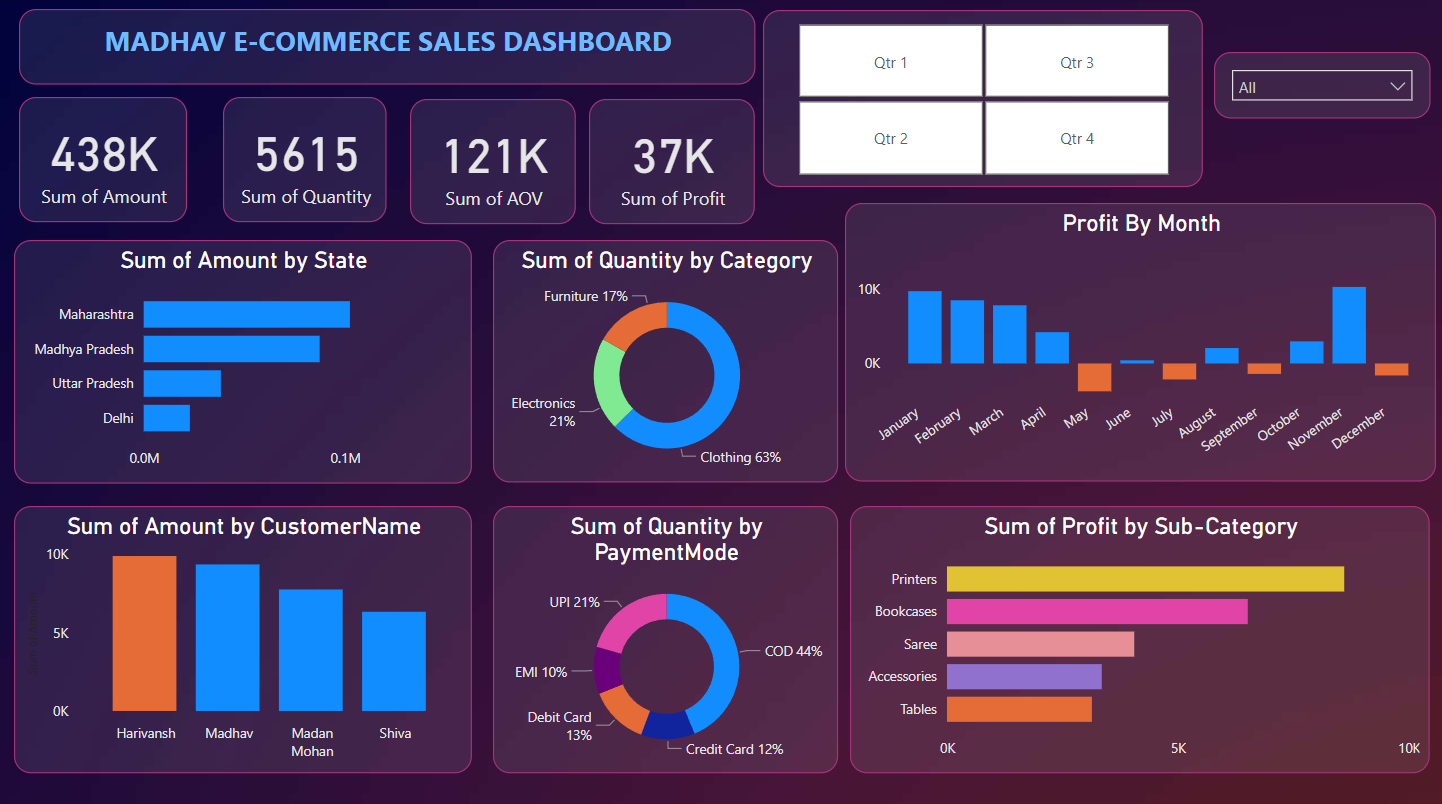

This screenshot's page, from the dashboard's own definition file:
{"tool":"powerbi","page":{"name":"Page 1","canvas":[1280,720],"ordinal":0},"visuals":[{"type":"textbox","box":[16.5,9.7,652.6,67.1],"z":0},{"type":"columnChart","title":"Profit By Month","fields":{"Category":["Orders.Order Date.Variation.Date Hierarchy.Month"],"Y":["Details.Profit"]},"box":[749.3,181.8,524,247.4],"z":1000},{"type":"barChart","fields":{"Category":["Details.Sub-Category"],"Y":["Details.Profit"]},"box":[753.7,450.4,514.3,236.7],"z":2000},{"type":"donutChart","fields":{"Category":["Details.Category"],"Y":["Details.Quantity"]},"box":[436.7,215,306.4,215],"z":3000},{"type":"donutChart","fields":{"Y":["Details.Quantity"],"Series":["Details.PaymentMode"]},"box":[437.1,450.4,305.9,236.7],"z":4000},{"type":"card","fields":{"Values":["Details.Amount"]},"box":[16.8,87.8,149,110.8],"z":5000},{"type":"card","fields":{"Values":["Details.Quantity"]},"box":[197.7,87.8,145.4,110.8],"z":6000},{"type":"card","fields":{"Values":["Details.Profit"]},"box":[522.3,89.6,147.2,110.8],"z":7000},{"type":"card","fields":{"Values":["Details.AOV"]},"box":[363.5,89.6,147.2,110.8],"z":8000},{"type":"barChart","fields":{"Y":["Details.Amount"],"Category":["Orders.State"]},"box":[12.6,215,405.6,215.9],"z":9000},{"type":"columnChart","fields":{"Category":["Orders.CustomerName"],"Y":["Details.Amount"]},"box":[12.4,450.4,406.1,236.7],"z":10000},{"type":"slicer","fields":{"Values":["Orders.Order Date.Variation.Date Hierarchy.Quarter"]},"box":[676.6,10.6,390.1,156.9],"z":11000},{"type":"slicer","fields":{"Values":["Orders.State"]},"box":[1076.5,47.9,191.5,58.5],"z":11001}]}

Visuals, with their boxes in screenshot pixels (x1, y1, x2, y2), scaled from the page's 1280x720 canvas onto the 1442x804 screenshot:
textbox: bbox=(19, 11, 754, 86)
"Profit By Month" columnChart: bbox=(844, 203, 1434, 479)
barChart - Details.Sub-Category x Details.Profit: bbox=(849, 503, 1428, 767)
donutChart - Details.Category x Details.Quantity: bbox=(492, 240, 837, 480)
donutChart - Details.Quantity x Details.PaymentMode: bbox=(492, 503, 837, 767)
card - Details.Amount: bbox=(19, 98, 187, 222)
card - Details.Quantity: bbox=(223, 98, 387, 222)
card - Details.Profit: bbox=(588, 100, 754, 224)
card - Details.AOV: bbox=(410, 100, 575, 224)
barChart - Details.Amount x Orders.State: bbox=(14, 240, 471, 481)
columnChart - Orders.CustomerName x Details.Amount: bbox=(14, 503, 471, 767)
slicer - Orders.Order Date.Variation.Date Hierarchy.Quarter: bbox=(762, 12, 1202, 187)
slicer - Orders.State: bbox=(1213, 53, 1428, 119)
